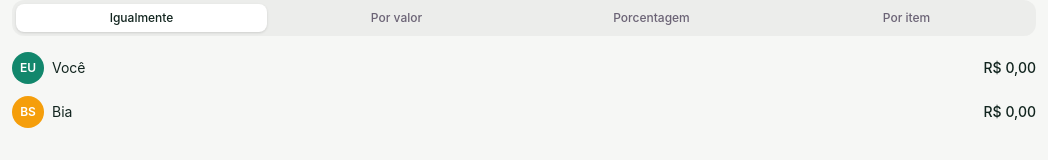
SplitEditor — por item › does not loop indefinitely when switching to the itemized tab
The image size is (1048, 160).
Click the button "Por item" at (906, 18), box [781,4,1032,32]
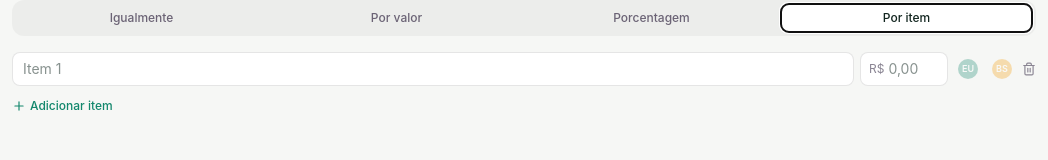
Now the button "Adicionar item" is shown, box [12,98,113,114]
